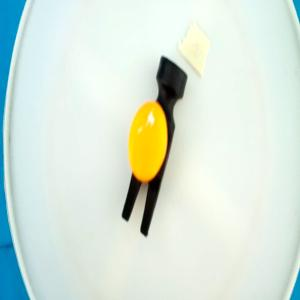martelo: (121, 55, 188, 238)
